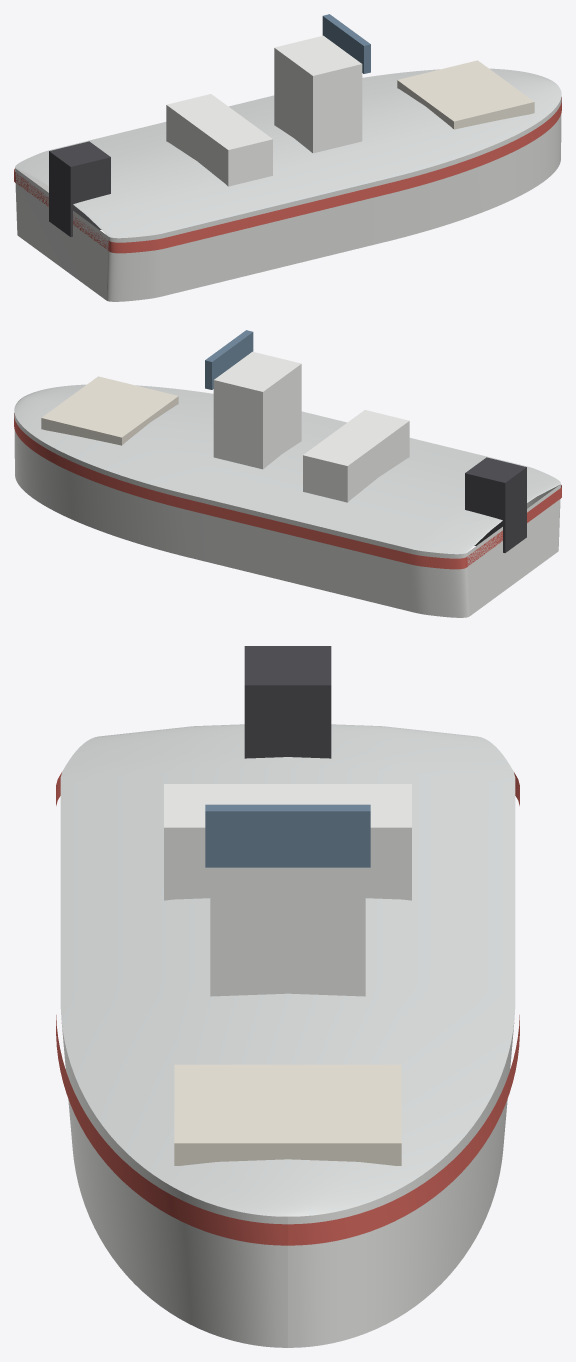
The model's file is river_boat.glb.
3 views of the same model, one above another, from view 1: azimuth 30°, elevation 25°; view 2: azimuth 150°, elevation 25°; view 3: azimuth 270°, elevation 25° (orthographic). The views are drawn at different scales.
Bounding box in the file's own units: 5.53 × 1.8 × 2.24.
